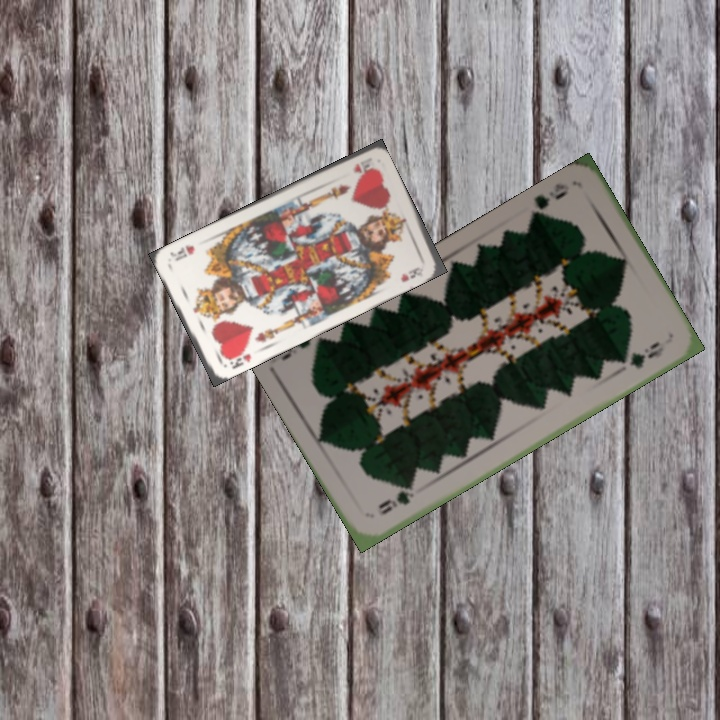G9: (527, 179, 572, 221), (373, 480, 418, 518)
HK: (222, 343, 254, 371), (349, 154, 373, 175)
